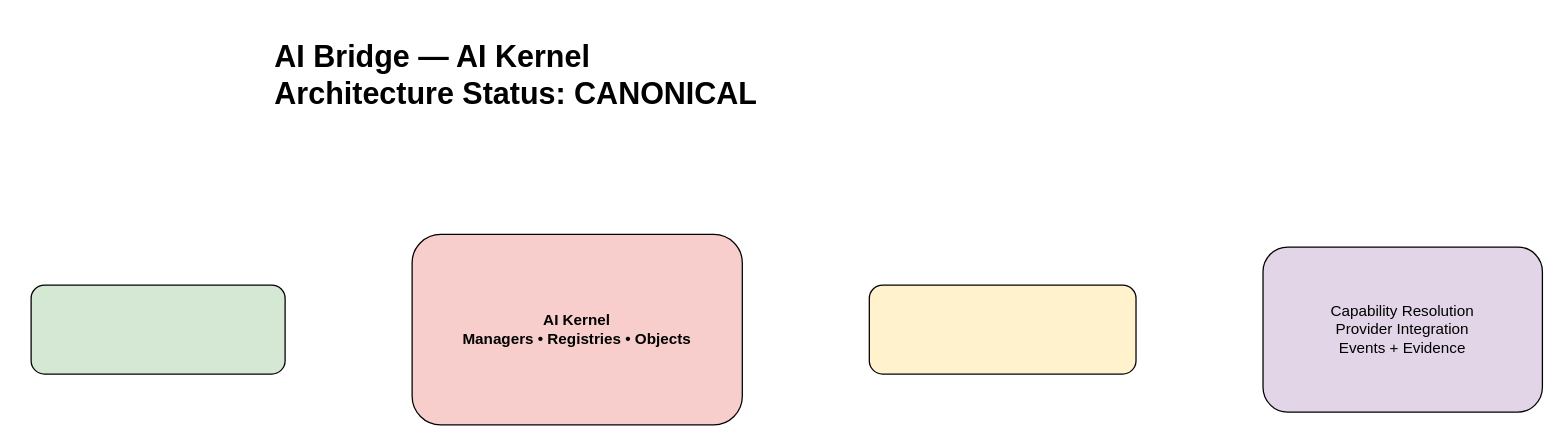
The diagram is 1565 pixels wide and 447 high, and some of its shapes have lost their labels. Each missing label, with the centre of its shape:
"Admitted Operational Work Item" goes at (157,329).
"Execution Kernel-owned first-class object" goes at (1002,329).
